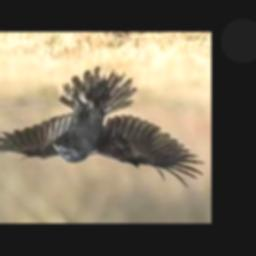Crow: (0, 67, 204, 189)
